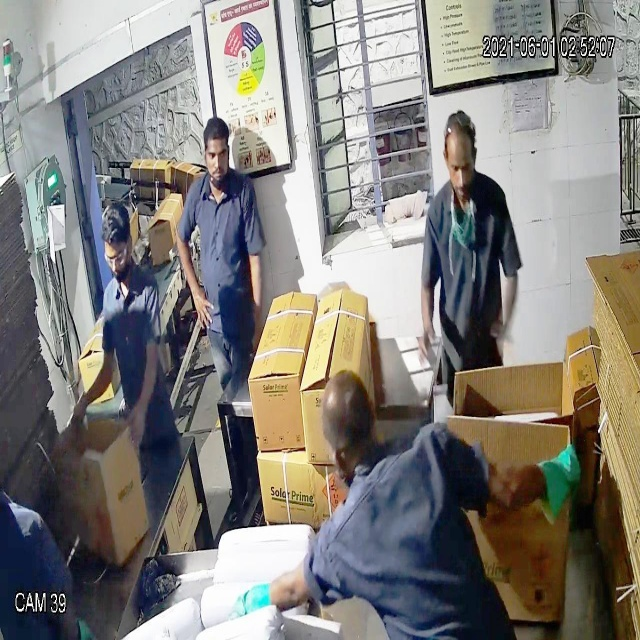Gafas: (100, 237, 136, 273)
Sin_gafas: (437, 150, 483, 187), (194, 142, 238, 173)
